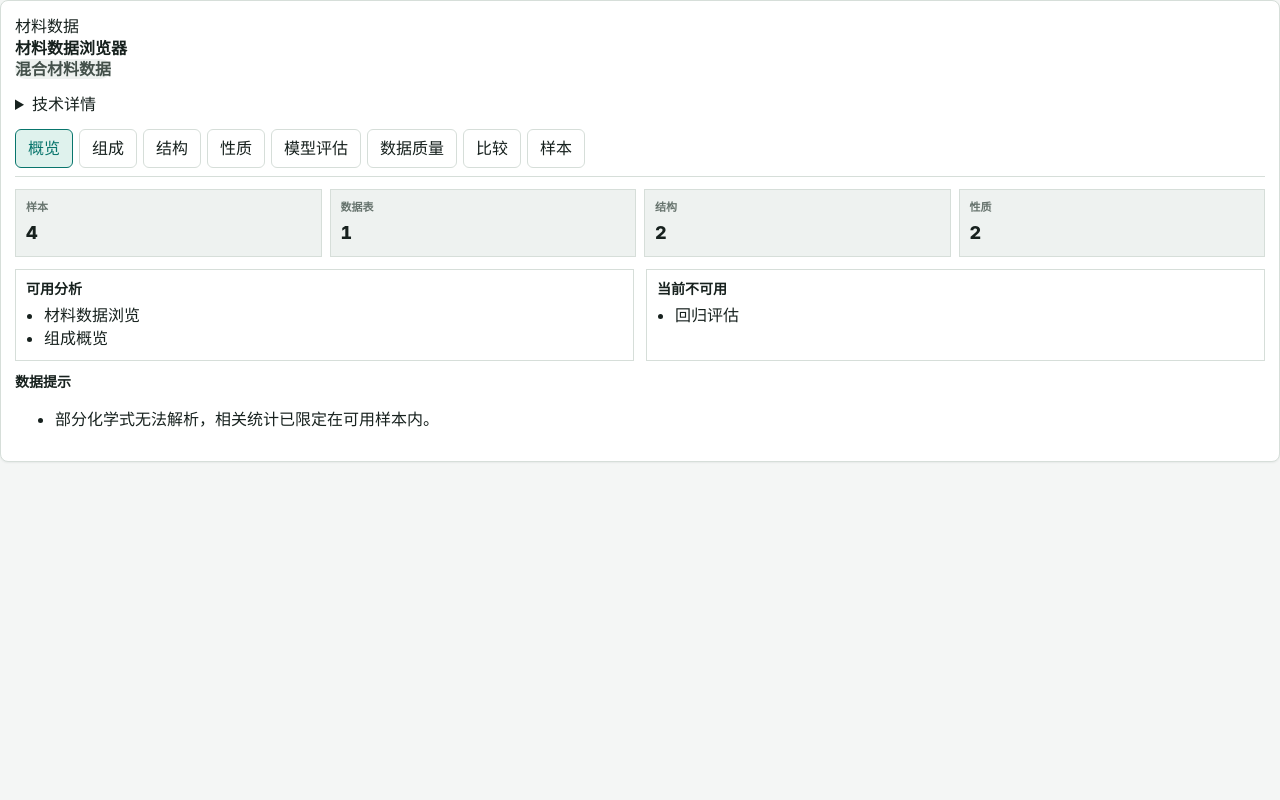
DatasetMaterialsExplorerPanel › keeps duplicate sample references object-qualified
Click the tab "样本": [556, 148] box left=527, top=129, right=585, bottom=168
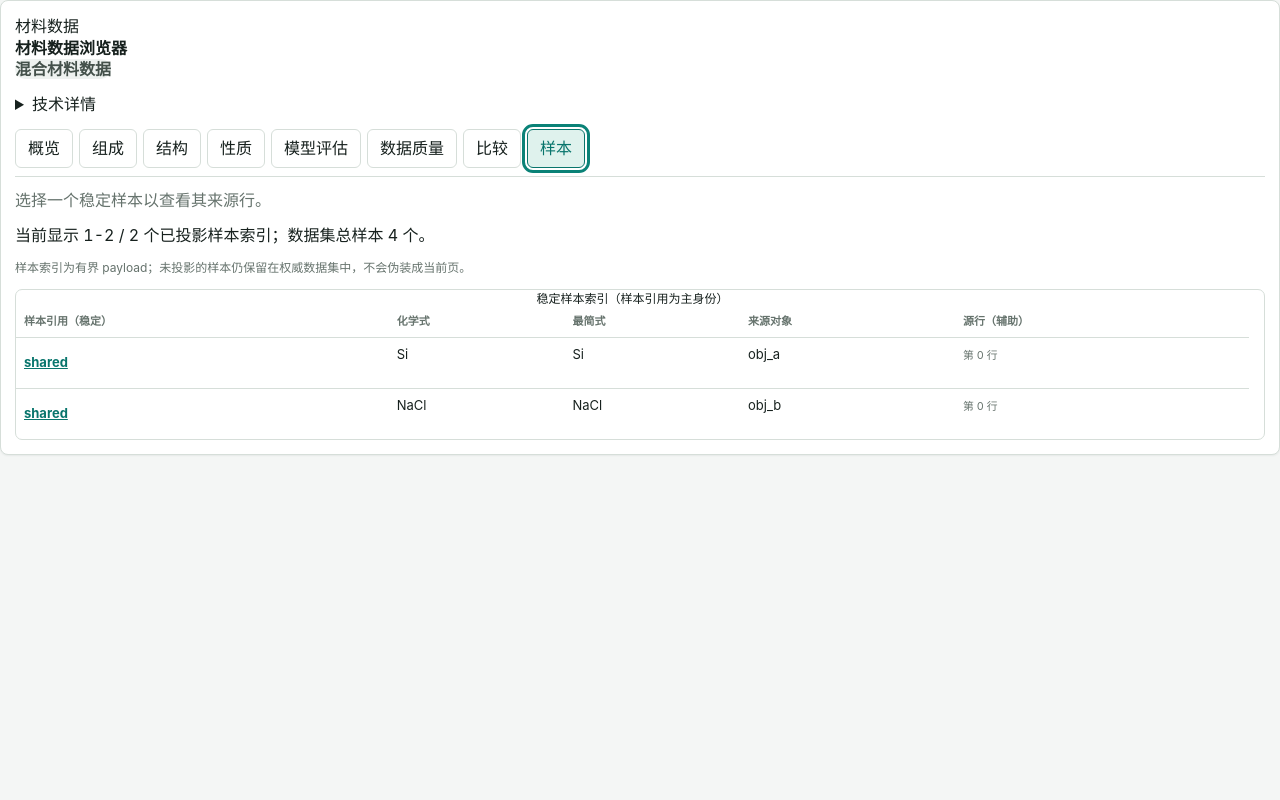
Click the button with aria-label "shared from obj_b": [46, 414] box left=24, top=396, right=68, bottom=432
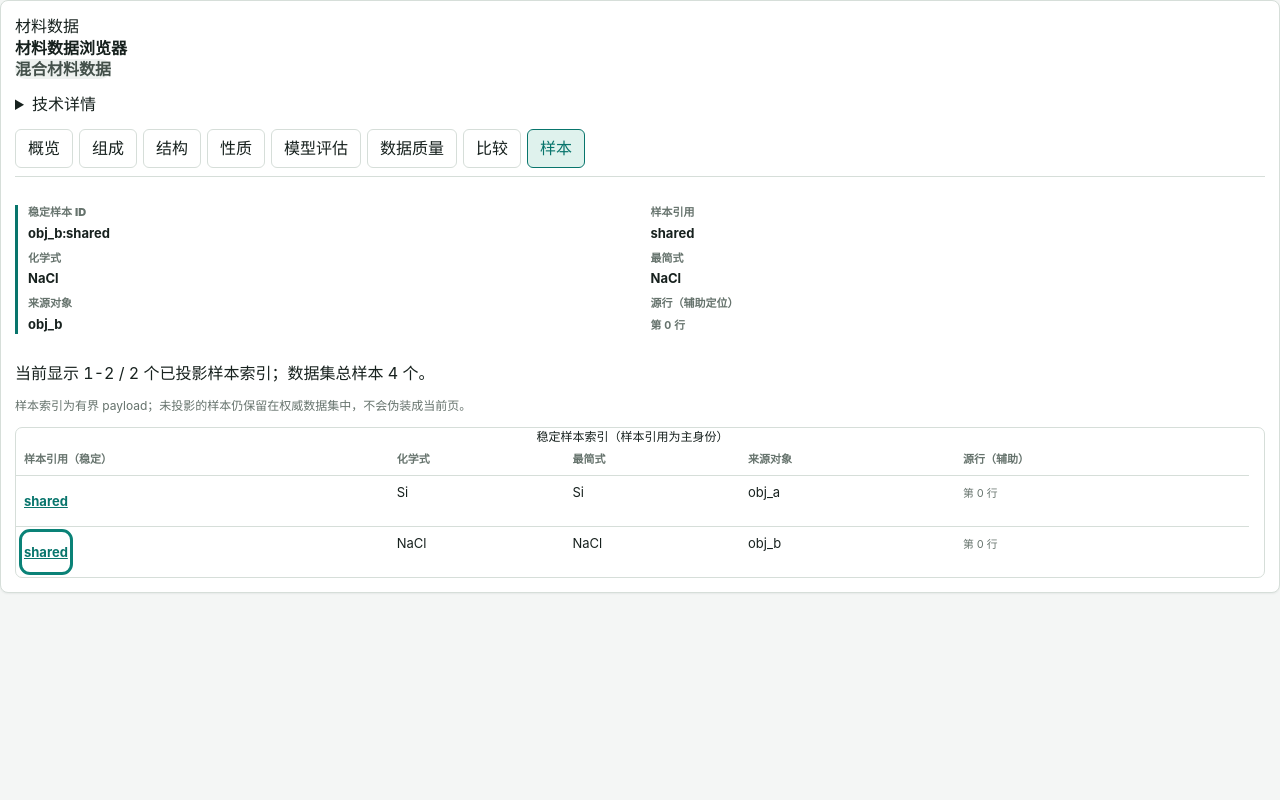
Expected: the element with test id "dataset-sample-inspector" shows "obj_b:shared", left=28, top=225, right=110, bottom=241
Expected: the element with test id "dataset-sample-inspector" shows "NaCl", left=28, top=270, right=59, bottom=286
